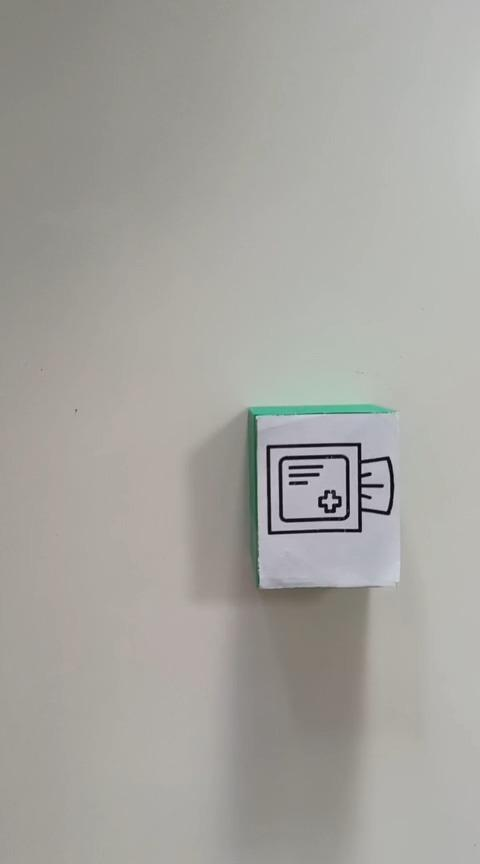Gauze: (246, 403, 401, 590)
